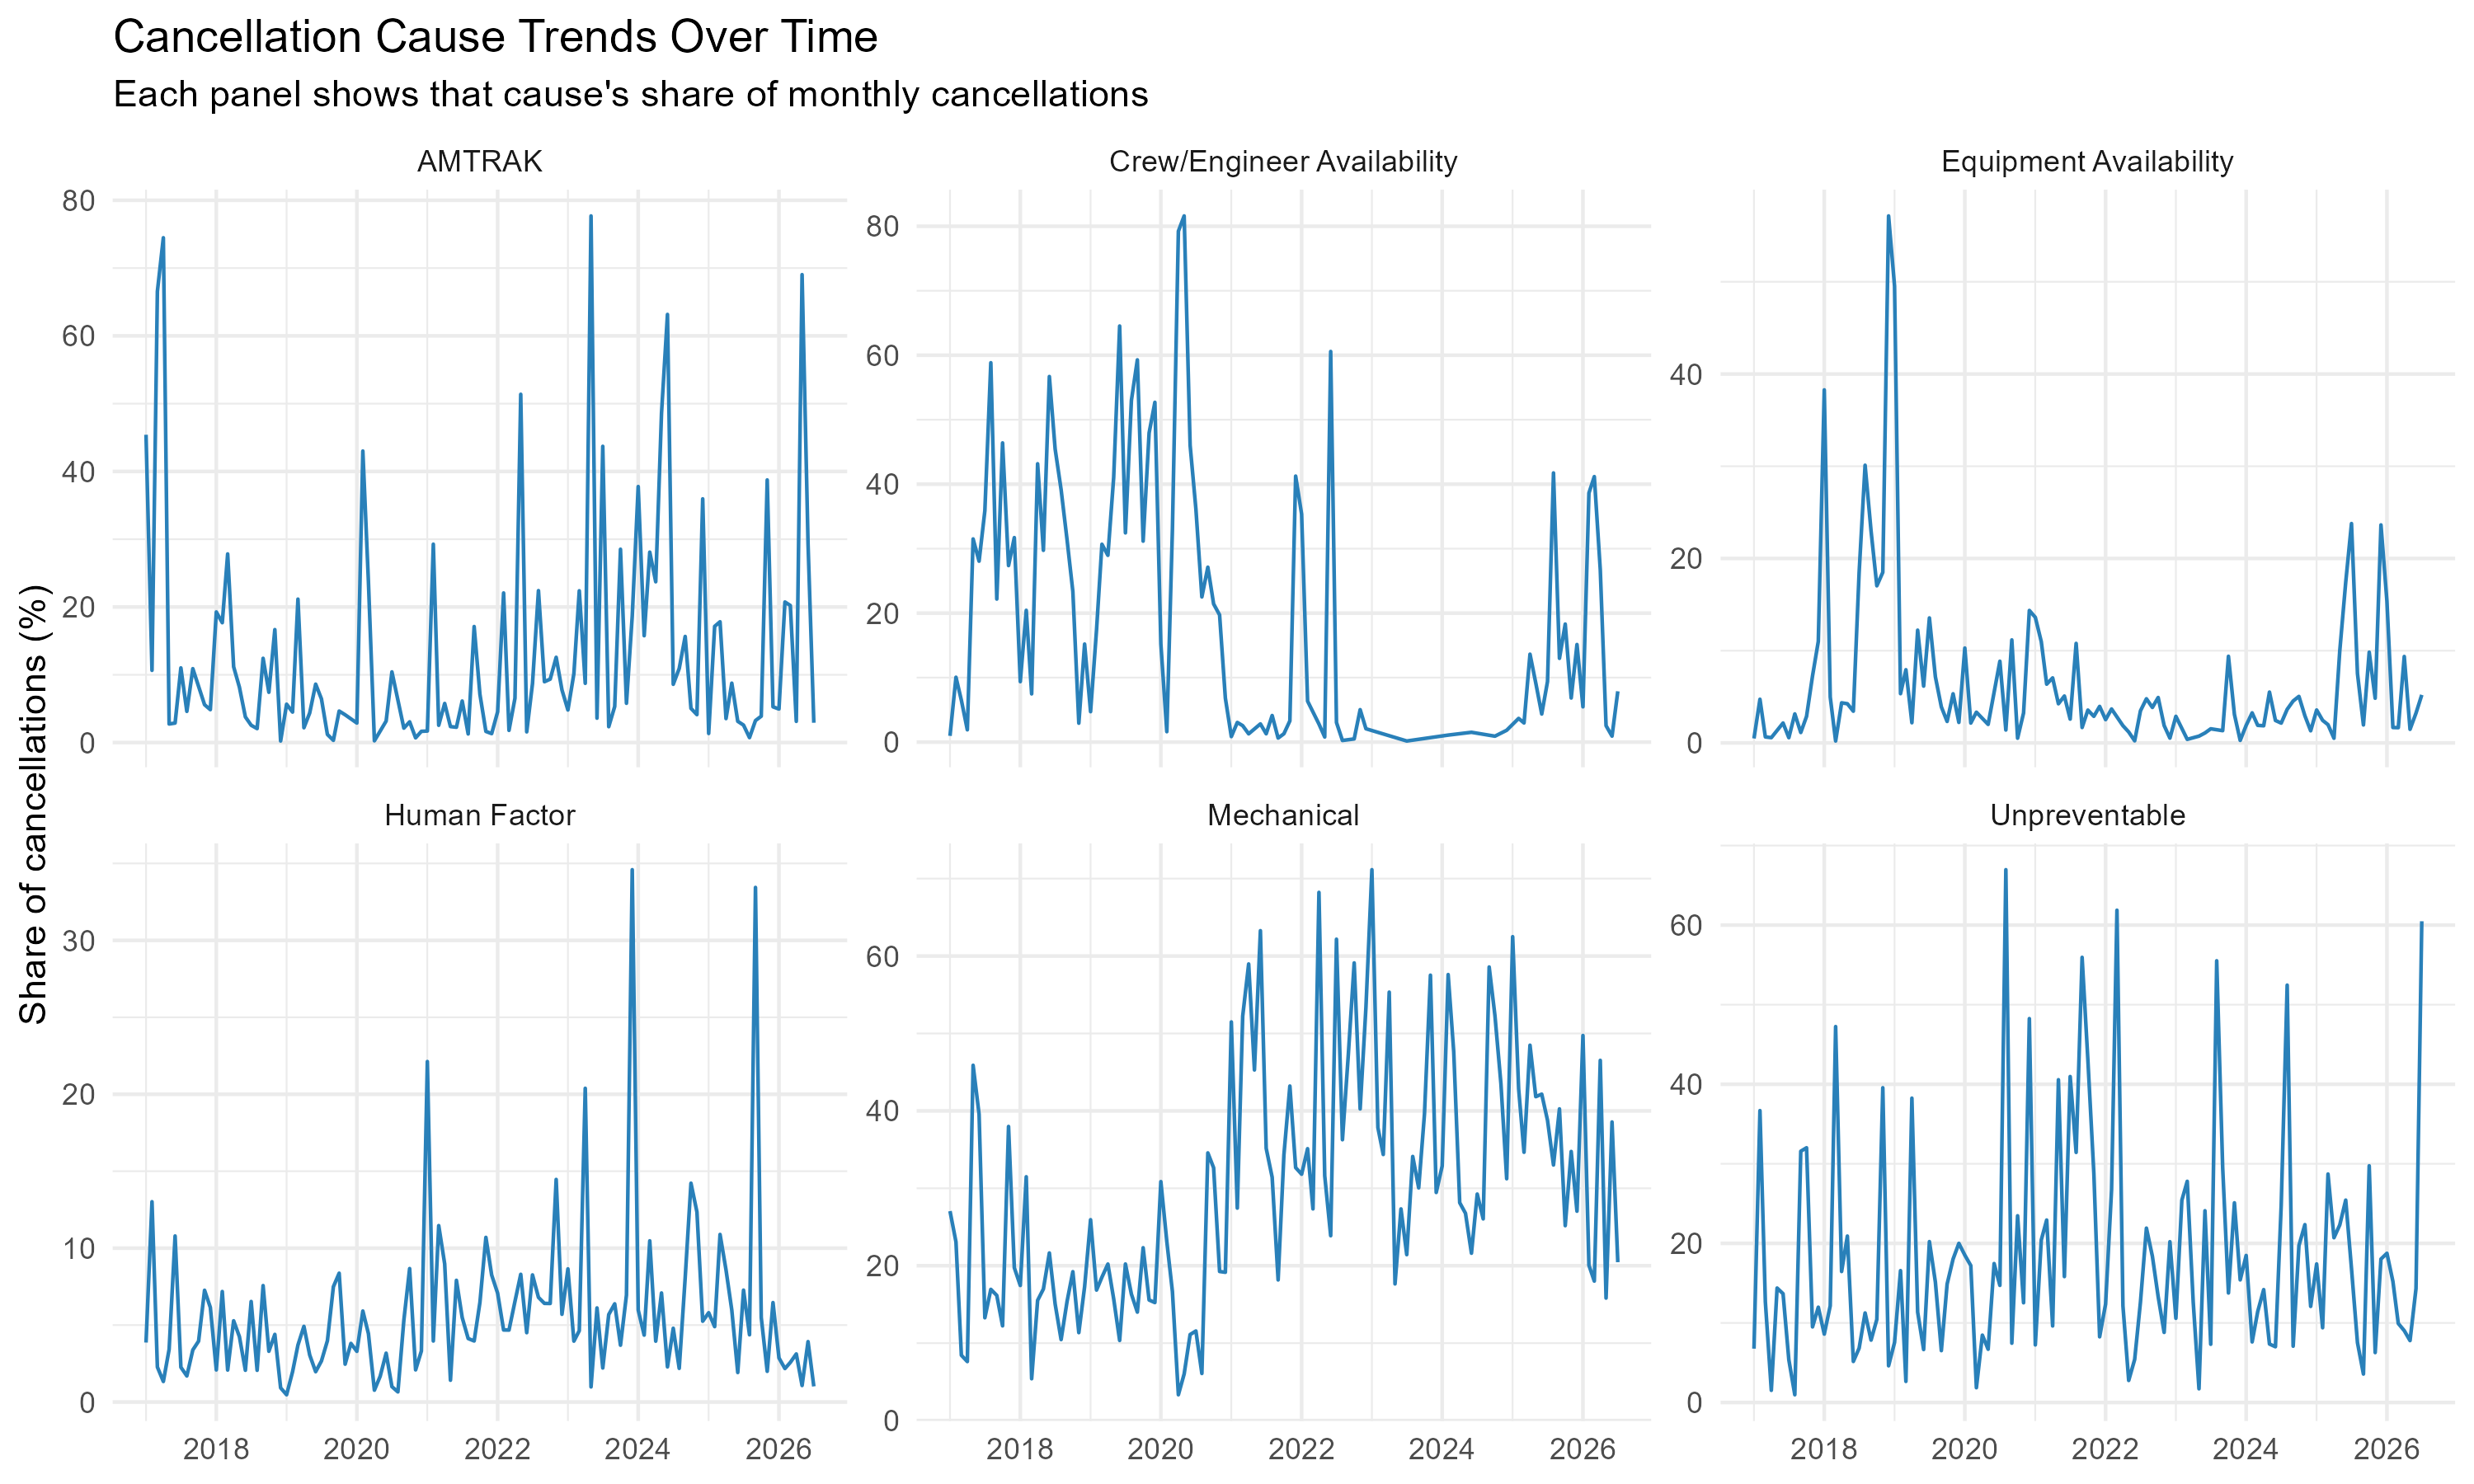

This screenshot's page, from the dashboard's own definition file:
{"tool":"powerbi","page":{"name":"Cancellation Causes","canvas":[1920,1080],"ordinal":1},"visuals":[{"type":"lineChart","fields":{"Category":["cancellation_causes.period"],"Rows":["cancellation_causes.category"],"Y":["Avg(cancellation_causes.cancel_pct)"]},"box":[0,102.1,1920,977.5],"z":0},{"type":"textbox","box":[500.4,20.4,919.1,103.6],"z":1000}]}

Visuals, with their boxes on the page's 1920x1080 design canvas (x1, y1, x2, y2). These are canvas units, not pixel positions in the 2474x1484 screenshot, which may show the page scaled, cropped or inside an application window:
lineChart - cancellation_causes.period x cancellation_causes.category: 0/102/1920/1080
textbox: 500/20/1420/124
